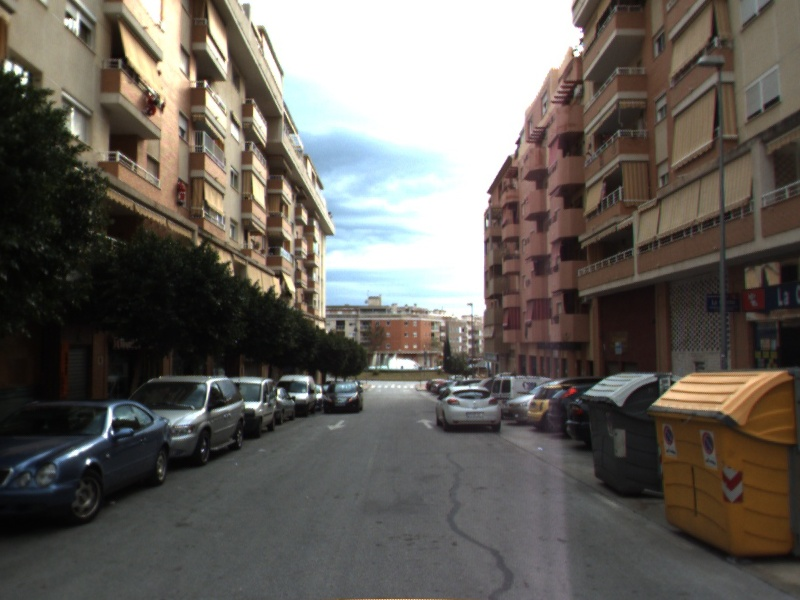STRAIGHT: (415, 417, 436, 430)
